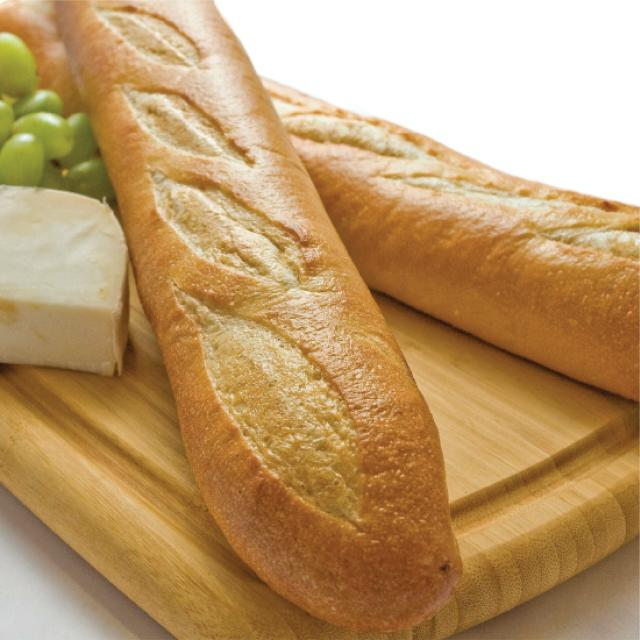Baguette: (48, 0, 462, 633), (277, 86, 640, 401)
